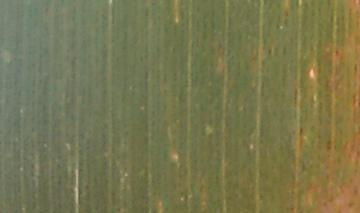tarspot: (352, 61, 359, 74), (299, 125, 305, 136), (283, 9, 290, 18), (274, 22, 281, 31), (333, 48, 340, 56), (266, 47, 272, 55)
